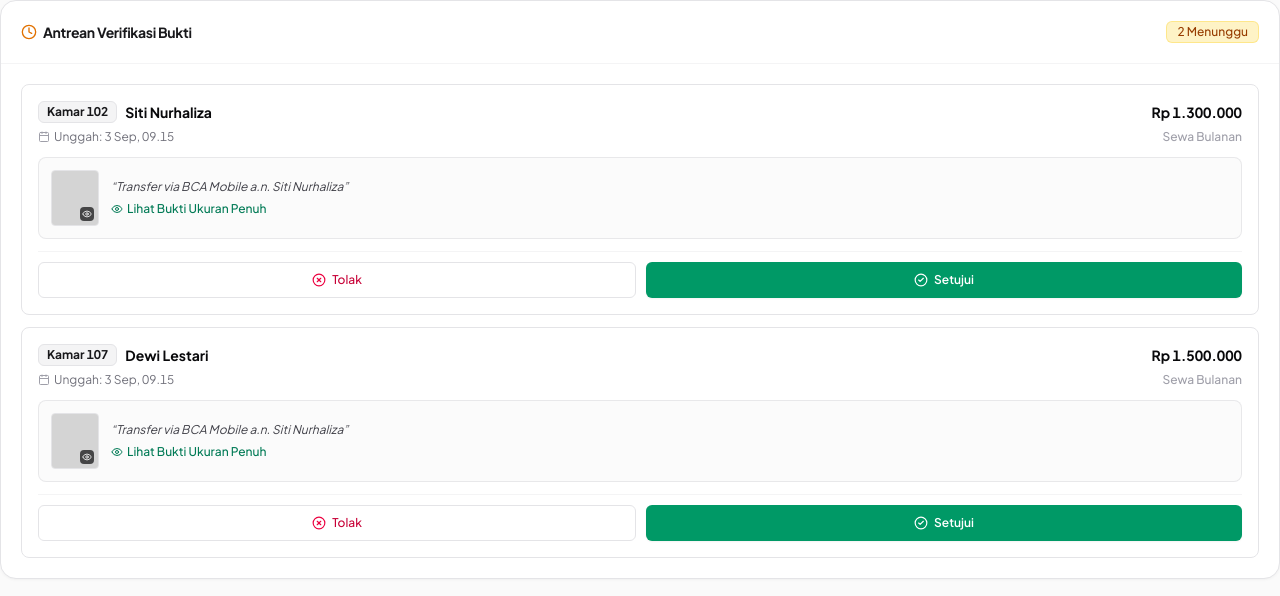
PemilikVerifikasiAntrean › dapat menyetujui pembayaran dan mengubah status menjadi Lunas serta menghapus dari antrean
This screenshot has width=1280, height=596.
# Setujui kamar 102
Click the button "Setujui" below "Rp 1.300.000" at (944, 280), box [646,262,1242,298]
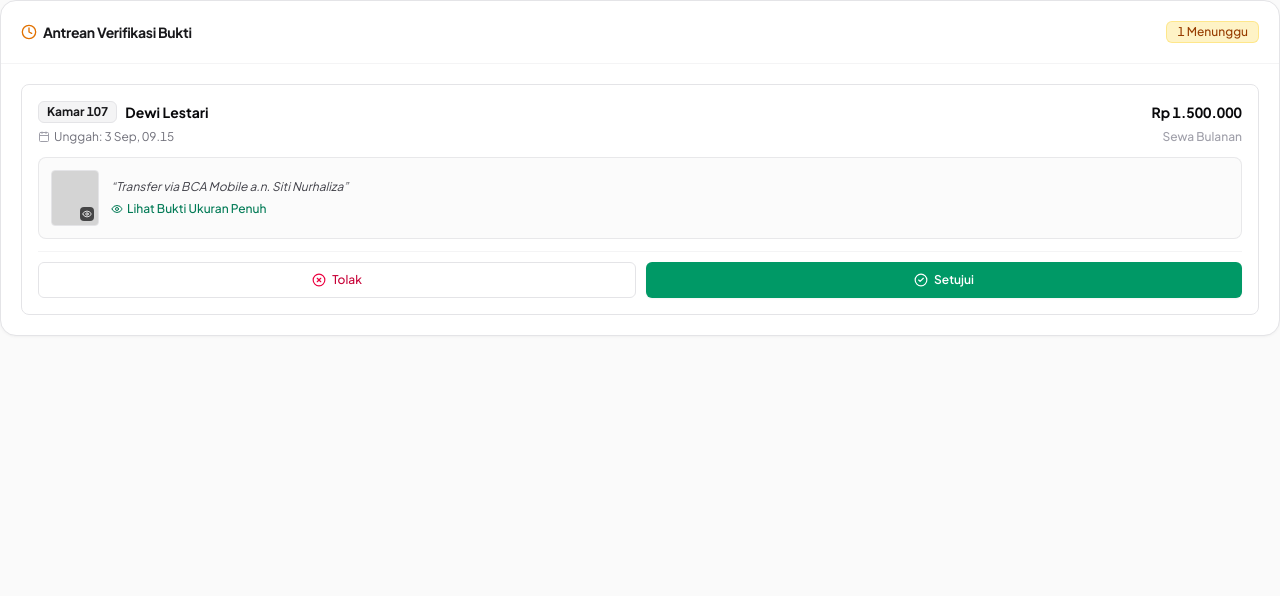
Now the text "Kamar 102" is gone
